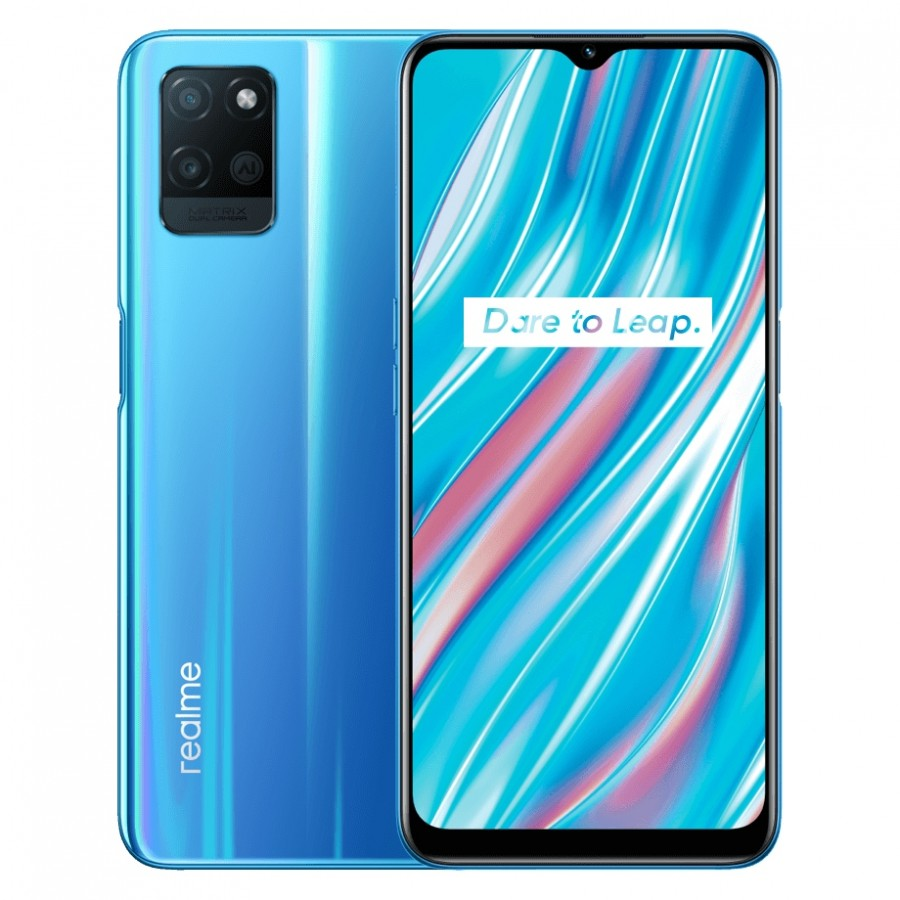Phone: (389, 22, 787, 878), (112, 27, 484, 874)
